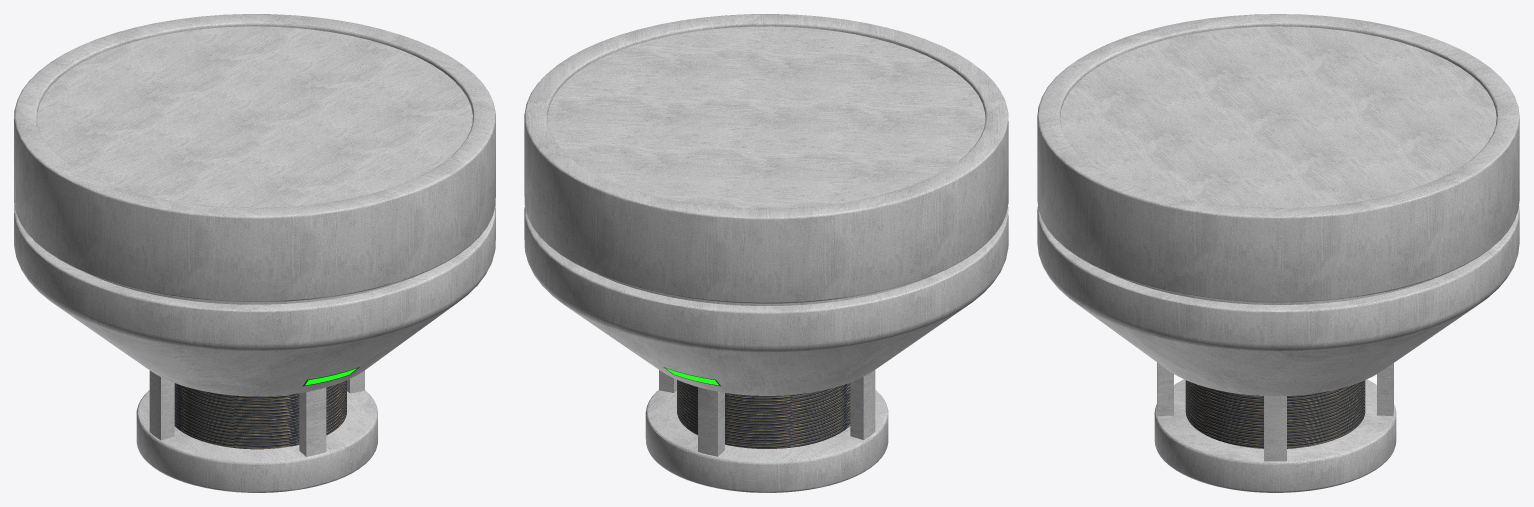
Rendered from detector_a5.fbx.
3 renders of one model, left to right at view 1: azimuth 30°, elevation 25°; view 2: azimuth 150°, elevation 25°; view 3: azimuth 270°, elevation 25°, orthographic.
Parts seen in each view (by area): view 1: detector; view 2: detector; view 3: detector.
Boxes of the visible parts, bbox=[...] form: detector: bbox=[14, 14, 495, 492]; detector: bbox=[524, 14, 1008, 492]; detector: bbox=[1037, 14, 1519, 492].
Bounding box in the file's own units: 200 × 150 × 200.
